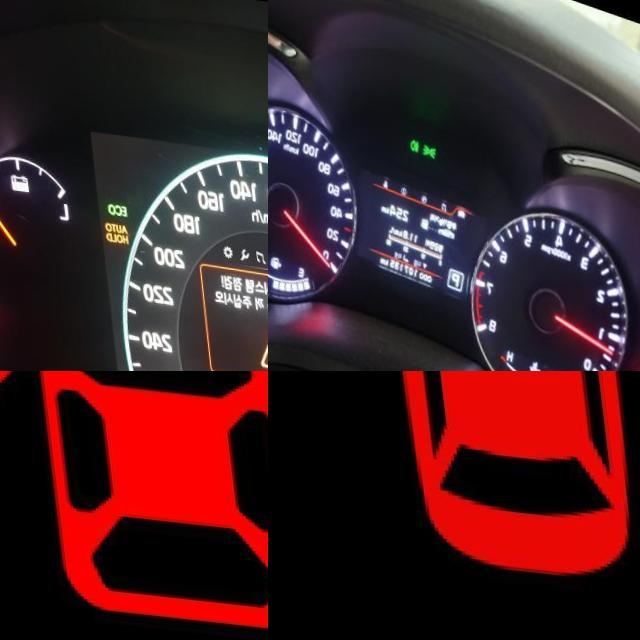FrontFogLight: (404, 130, 417, 146)
SideLamp: (417, 133, 435, 152)
